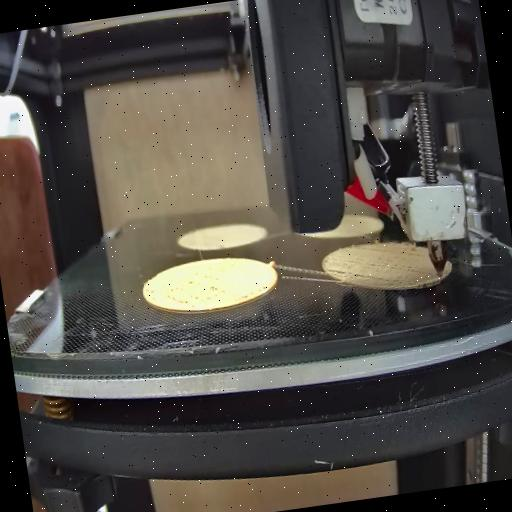under_extrusion: (325, 255, 427, 302), (148, 272, 224, 314), (238, 280, 272, 300)
